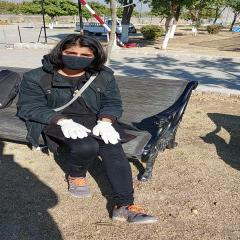gloved: (93, 121, 122, 145), (59, 120, 91, 138)
